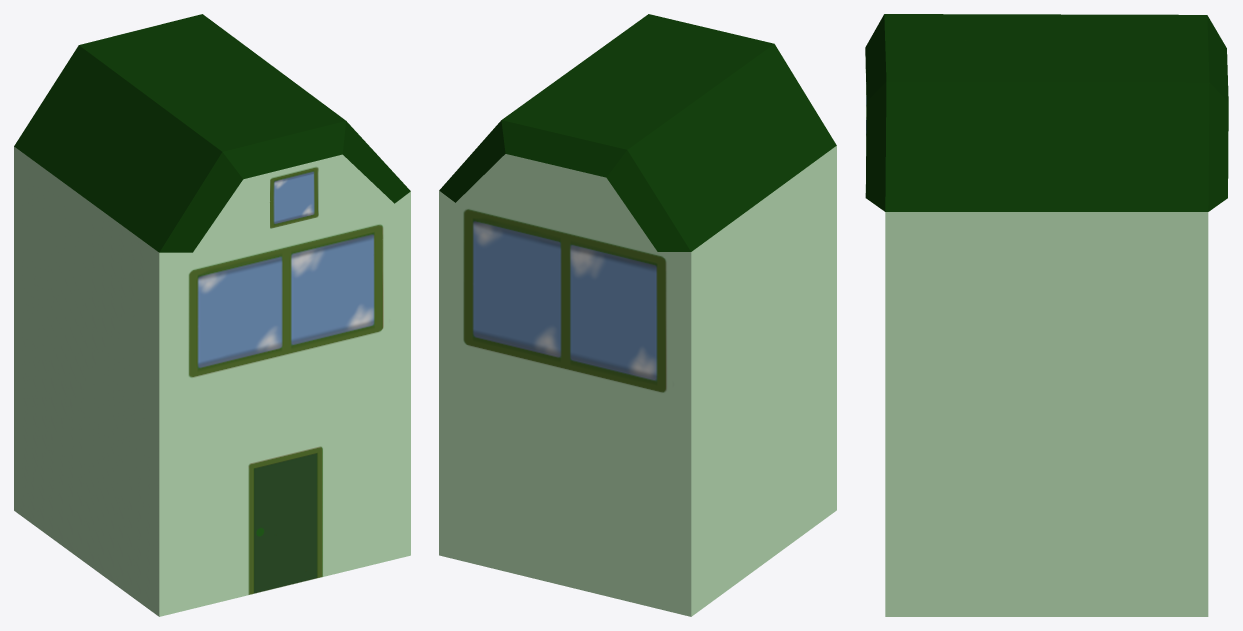
File: Building4.fbx
3 views of the same model, side by side, from view 1: azimuth 30°, elevation 25°; view 2: azimuth 150°, elevation 25°; view 3: azimuth 270°, elevation 25° (orthographic). The views are drawn at different scales.
Visible parts, largest first — view 1: pCube10; view 2: pCube10; view 3: pCube10.
Part boxes in pixels (x1,y1,x2,y2): pCube10: [14, 14, 410, 616]; pCube10: [439, 14, 836, 616]; pCube10: [865, 14, 1228, 616].
Size of the model in its own units: 2.45 by 4.19 by 2.76.
